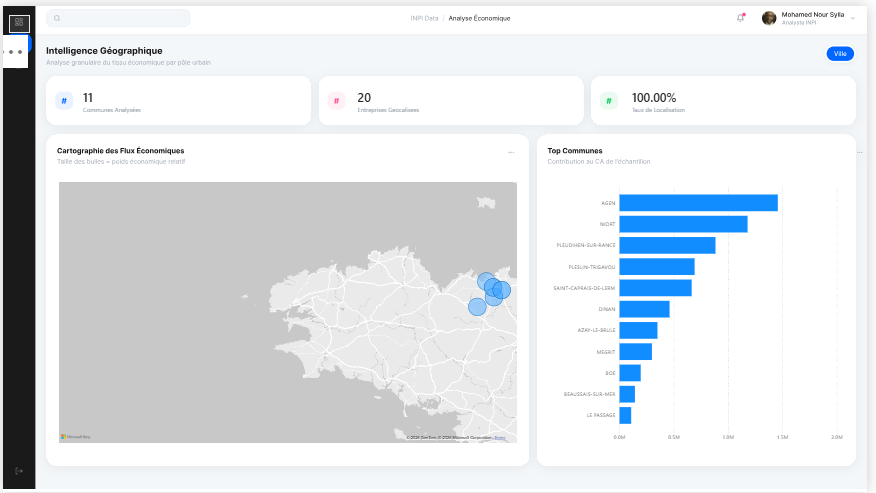

The page's visual inventory and layout, read from the dashboard file:
{"tool":"powerbi","page":{"name":"Intelligence Géographique","canvas":[1920,1080],"ordinal":1},"visuals":[{"type":"cardVisual","fields":{"Data":["_Mesures.Nb Commune"]},"box":[158.6,167.1,168.6,90],"z":0},{"type":"cardVisual","fields":{"Data":["_Mesures.Entreprises Geocalisees"]},"box":[771.4,167.1,177.1,90],"z":1000},{"type":"cardVisual","fields":{"Data":["_Mesures.% Couverture"]},"box":[1380,167.1,177.1,90],"z":2000},{"type":"barChart","fields":{"Category":["dim_geographie.ville"],"Y":["_Mesures.CA Total"]},"box":[1205,387.5,665,590],"z":3000},{"type":"map","fields":{"Category":["dim_geographie.ville"]},"box":[120,386.7,1026.7,590],"z":4001},{"type":"actionButton","box":[12.3,20,46.2,40],"z":4002}]}

Visuals, with their boxes on the page's 1920x1080 design canvas (x1, y1, x2, y2). These are canvas units, not pixel positions in the 876x493 screenshot, which may show the page scaled, cropped or inside an application window:
cardVisual - _Mesures.Nb Commune: 159 167 327 257
cardVisual - _Mesures.Entreprises Geocalisees: 771 167 948 257
cardVisual - _Mesures.% Couverture: 1380 167 1557 257
barChart - dim_geographie.ville x _Mesures.CA Total: 1205 388 1870 978
map - dim_geographie.ville: 120 387 1147 977
actionButton: 12 20 58 60
